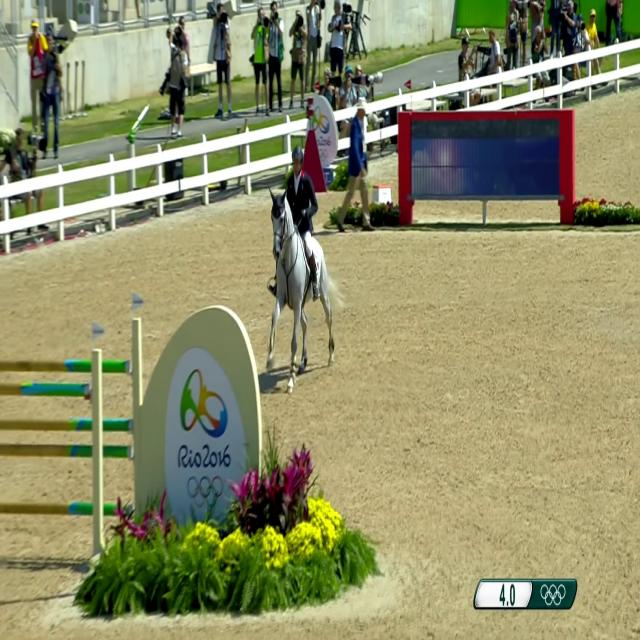Horse Running: (260, 175, 360, 399)
